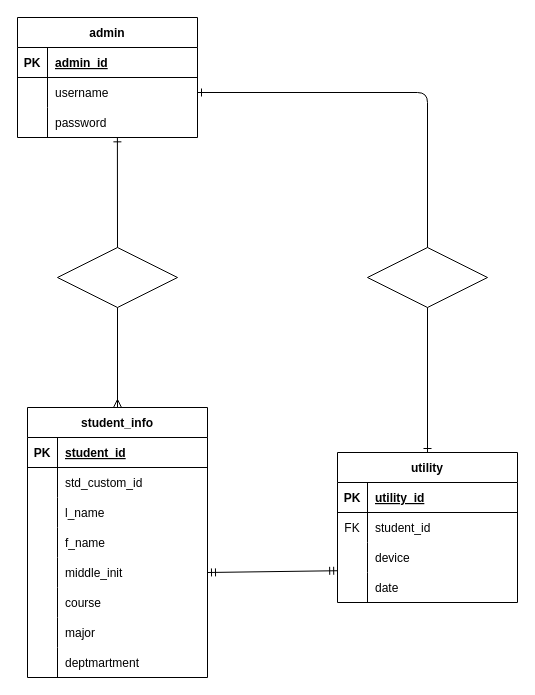
Some shapes in this 535 by 695 pixel diagram are drawn without their labels. Here are the shapes that lost their labels. From the top down, the centre of each, then its label:
At [117,277]: "CRUD".
At [427,277]: "Relationship".
